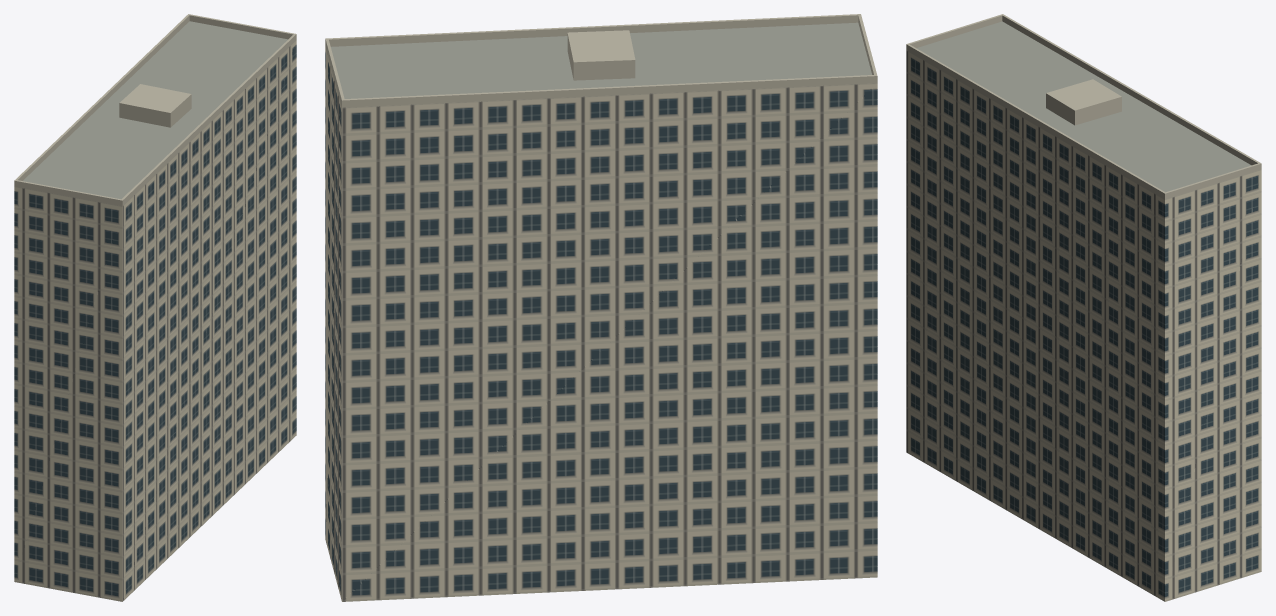
3 renders of one model, left to right at view 1: azimuth 30°, elevation 25°; view 2: azimuth 150°, elevation 25°; view 3: azimuth 270°, elevation 25°, orthographic. The views are drawn at different scales.
Visible parts, largest first — view 1: B01_tower, B01_tower_parapet, B01_tower_plant; view 2: B01_tower, B01_tower_parapet, B01_tower_plant; view 3: B01_tower, B01_tower_parapet, B01_tower_plant.
Boxes of the visible parts, x1,y1,x2,y2 form: B01_tower: (14, 21, 296, 601); B01_tower_parapet: (14, 14, 296, 206); B01_tower_plant: (119, 84, 191, 127); B01_tower: (325, 22, 877, 601); B01_tower_parapet: (325, 14, 877, 107); B01_tower_plant: (567, 30, 635, 80); B01_tower: (906, 21, 1261, 601); B01_tower_parapet: (906, 14, 1261, 199); B01_tower_plant: (1046, 79, 1121, 125).
Bounding box in the file's own units: 51.75 × 56 × 43.27.
3 materials, 1 textured.
